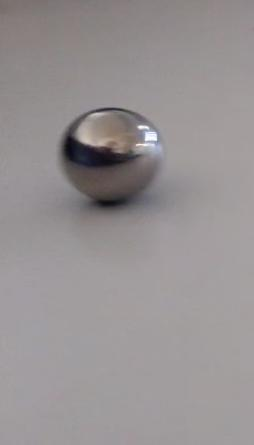steelball: (54, 103, 167, 215)
